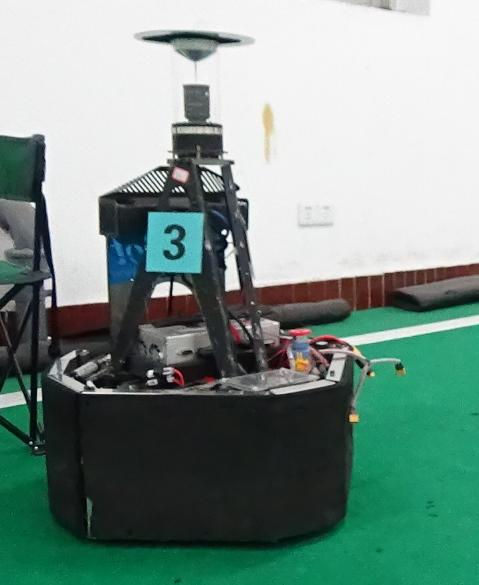robot: (35, 26, 366, 546)
